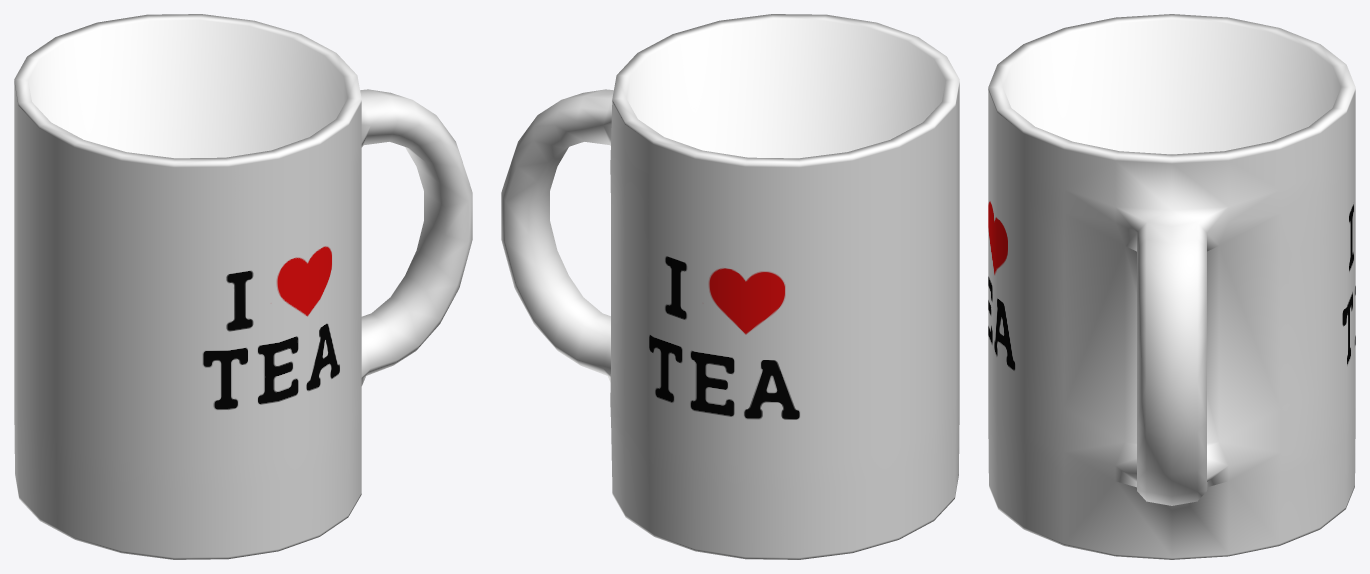
File: Mug_T_glTF.glb
3 renders of one model, left to right at view 1: azimuth 30°, elevation 25°; view 2: azimuth 150°, elevation 25°; view 3: azimuth 270°, elevation 25°, orthographic.
Parts seen in each view (by area): view 1: Mug_T; view 2: Mug_T; view 3: Mug_T.
Part boxes in pixels (box(x1,y1,x2,y2)): Mug_T: box(14, 14, 472, 559); Mug_T: box(501, 14, 959, 559); Mug_T: box(988, 14, 1355, 559).
Bounding box in the file's own units: 0.1023 × 0.09 × 0.075.
Materials: 1 (1 with a texture image).
